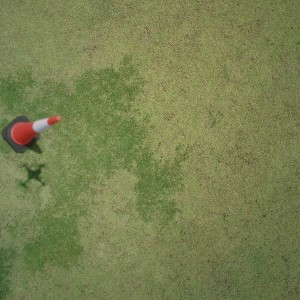traffic cone: (1, 114, 62, 153)
